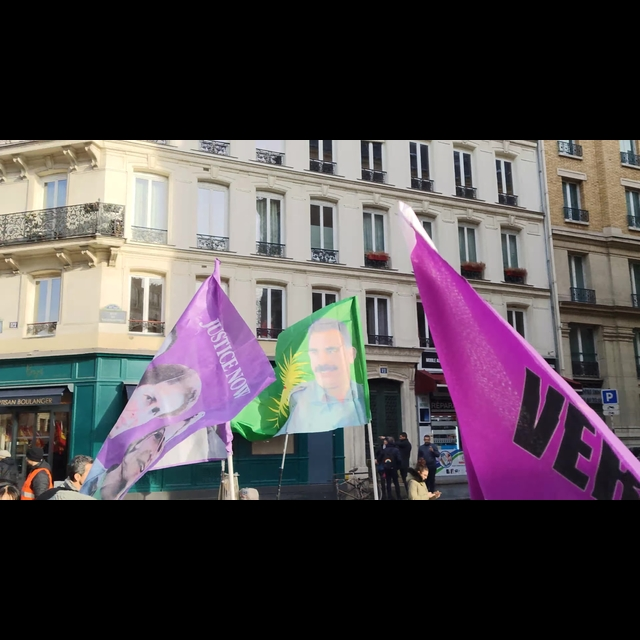APO: (308, 320, 353, 392)
